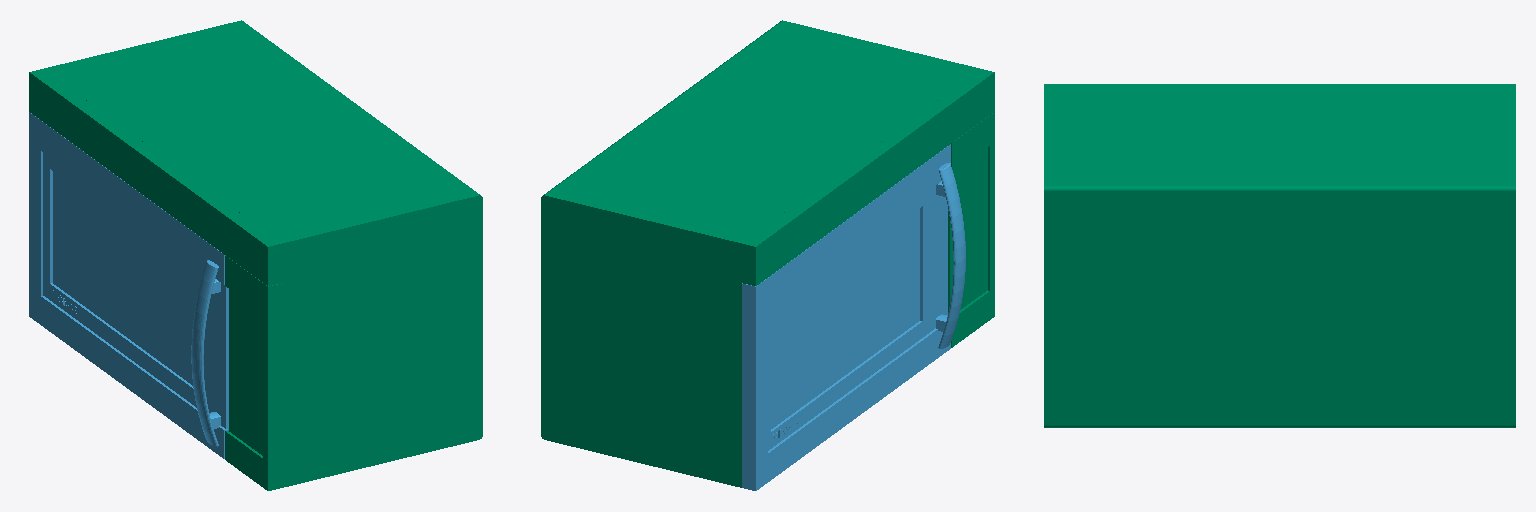
robot.urdf — partnet_c5d13a109a61060c178e7d331e641179:
<?xml version='1.0' encoding='utf-8'?>
<robot name="partnet_c5d13a109a61060c178e7d331e641179">
	<link name="base" />
	<link name="link_0">
		<visual name="door_frame_5">
			<origin xyz="0.7663123617888119 -0.4711569999999998 -0.39380938953471023" />
			<geometry>
				<mesh filename="textured_objs_isaac/original_1.obj" />
			</geometry>
		</visual>
		<visual name="glass_6">
			<origin xyz="0.7663123617888119 -0.4711569999999998 -0.39380938953471023" />
			<geometry>
				<mesh filename="textured_objs_isaac/original_6.obj" />
			</geometry>
		</visual>
		<visual name="glass_6">
			<origin xyz="0.7663123617888119 -0.4711569999999998 -0.39380938953471023" />
			<geometry>
				<mesh filename="textured_objs_isaac/original_9.obj" />
			</geometry>
		</visual>
		<visual name="glass_6">
			<origin xyz="0.7663123617888119 -0.4711569999999998 -0.39380938953471023" />
			<geometry>
				<mesh filename="textured_objs_isaac/original_17.obj" />
			</geometry>
		</visual>
		<visual name="glass_6">
			<origin xyz="0.7663123617888119 -0.4711569999999998 -0.39380938953471023" />
			<geometry>
				<mesh filename="textured_objs_isaac/original_10.obj" />
			</geometry>
		</visual>
		<visual name="glass_6">
			<origin xyz="0.7663123617888119 -0.4711569999999998 -0.39380938953471023" />
			<geometry>
				<mesh filename="textured_objs_isaac/original_11.obj" />
			</geometry>
		</visual>
		<visual name="glass_6">
			<origin xyz="0.7663123617888119 -0.4711569999999998 -0.39380938953471023" />
			<geometry>
				<mesh filename="textured_objs_isaac/original_12.obj" />
			</geometry>
		</visual>
		<visual name="glass_6">
			<origin xyz="0.7663123617888119 -0.4711569999999998 -0.39380938953471023" />
			<geometry>
				<mesh filename="textured_objs_isaac/original_13.obj" />
			</geometry>
		</visual>
		<visual name="glass_6">
			<origin xyz="0.7663123617888119 -0.4711569999999998 -0.39380938953471023" />
			<geometry>
				<mesh filename="textured_objs_isaac/original_14.obj" />
			</geometry>
		</visual>
		<visual name="glass_6">
			<origin xyz="0.7663123617888119 -0.4711569999999998 -0.39380938953471023" />
			<geometry>
				<mesh filename="textured_objs_isaac/original_15.obj" />
			</geometry>
		</visual>
		<visual name="glass_6">
			<origin xyz="0.7663123617888119 -0.4711569999999998 -0.39380938953471023" />
			<geometry>
				<mesh filename="textured_objs_isaac/original_16.obj" />
			</geometry>
		</visual>
		<visual name="glass_6">
			<origin xyz="0.7663123617888119 -0.4711569999999998 -0.39380938953471023" />
			<geometry>
				<mesh filename="textured_objs_isaac/original_3.obj" />
			</geometry>
		</visual>
		<visual name="handle_7">
			<origin xyz="0.7663123617888119 -0.4711569999999998 -0.39380938953471023" />
			<geometry>
				<mesh filename="textured_objs_isaac/original_19.obj" />
			</geometry>
		</visual>
		<visual name="handle_7">
			<origin xyz="0.7663123617888119 -0.4711569999999998 -0.39380938953471023" />
			<geometry>
				<mesh filename="textured_objs_isaac/original_21.obj" />
			</geometry>
		</visual>
		<visual name="handle_7">
			<origin xyz="0.7663123617888119 -0.4711569999999998 -0.39380938953471023" />
			<geometry>
				<mesh filename="textured_objs_isaac/original_20.obj" />
			</geometry>
		</visual>
		<collision>
			<origin xyz="0.7663123617888119 -0.4711569999999998 -0.39380938953471023" />
			<geometry>
				<mesh filename="textured_objs_isaac/original_1.obj" />
			</geometry>
		</collision>
		<collision>
			<origin xyz="0.7663123617888119 -0.4711569999999998 -0.39380938953471023" />
			<geometry>
				<mesh filename="textured_objs_isaac/original_6.obj" />
			</geometry>
		</collision>
		<collision>
			<origin xyz="0.7663123617888119 -0.4711569999999998 -0.39380938953471023" />
			<geometry>
				<mesh filename="textured_objs_isaac/original_9.obj" />
			</geometry>
		</collision>
		<collision>
			<origin xyz="0.7663123617888119 -0.4711569999999998 -0.39380938953471023" />
			<geometry>
				<mesh filename="textured_objs_isaac/original_17.obj" />
			</geometry>
		</collision>
		<collision>
			<origin xyz="0.7663123617888119 -0.4711569999999998 -0.39380938953471023" />
			<geometry>
				<mesh filename="textured_objs_isaac/original_10.obj" />
			</geometry>
		</collision>
		<collision>
			<origin xyz="0.7663123617888119 -0.4711569999999998 -0.39380938953471023" />
			<geometry>
				<mesh filename="textured_objs_isaac/original_11.obj" />
			</geometry>
		</collision>
		<collision>
			<origin xyz="0.7663123617888119 -0.4711569999999998 -0.39380938953471023" />
			<geometry>
				<mesh filename="textured_objs_isaac/original_12.obj" />
			</geometry>
		</collision>
		<collision>
			<origin xyz="0.7663123617888119 -0.4711569999999998 -0.39380938953471023" />
			<geometry>
				<mesh filename="textured_objs_isaac/original_13.obj" />
			</geometry>
		</collision>
		<collision>
			<origin xyz="0.7663123617888119 -0.4711569999999998 -0.39380938953471023" />
			<geometry>
				<mesh filename="textured_objs_isaac/original_14.obj" />
			</geometry>
		</collision>
		<collision>
			<origin xyz="0.7663123617888119 -0.4711569999999998 -0.39380938953471023" />
			<geometry>
				<mesh filename="textured_objs_isaac/original_15.obj" />
			</geometry>
		</collision>
		<collision>
			<origin xyz="0.7663123617888119 -0.4711569999999998 -0.39380938953471023" />
			<geometry>
				<mesh filename="textured_objs_isaac/original_16.obj" />
			</geometry>
		</collision>
		<collision>
			<origin xyz="0.7663123617888119 -0.4711569999999998 -0.39380938953471023" />
			<geometry>
				<mesh filename="textured_objs_isaac/original_3.obj" />
			</geometry>
		</collision>
		<collision>
			<origin xyz="0.7663123617888119 -0.4711569999999998 -0.39380938953471023" />
			<geometry>
				<mesh filename="textured_objs_isaac/original_19.obj" />
			</geometry>
		</collision>
		<collision>
			<origin xyz="0.7663123617888119 -0.4711569999999998 -0.39380938953471023" />
			<geometry>
				<mesh filename="textured_objs_isaac/original_21.obj" />
			</geometry>
		</collision>
		<collision>
			<origin xyz="0.7663123617888119 -0.4711569999999998 -0.39380938953471023" />
			<geometry>
				<mesh filename="textured_objs_isaac/original_20.obj" />
			</geometry>
		</collision>
	</link>
	<joint name="joint_0" type="revolute">
		<origin xyz="-0.7663123617888119 0.4711569999999998 0.39380938953471023" />
		<axis xyz="0 -1 0" />
		<child link="link_0" />
		<parent link="link_1" />
		<limit lower="-0.0" upper="1.5707963267948966" />
	</joint>
	<link name="link_1">
		<visual name="frame_2">
			<origin xyz="0 0 0" />
			<geometry>
				<mesh filename="textured_objs_isaac/original_2.obj" />
			</geometry>
		</visual>
		<visual name="frame_2">
			<origin xyz="0 0 0" />
			<geometry>
				<mesh filename="textured_objs_isaac/new_11.obj" />
			</geometry>
		</visual>
		<visual name="frame_2">
			<origin xyz="0 0 0" />
			<geometry>
				<mesh filename="textured_objs_isaac/original_7.obj" />
			</geometry>
		</visual>
		<visual name="frame_2">
			<origin xyz="0 0 0" />
			<geometry>
				<mesh filename="textured_objs_isaac/original_4.obj" />
			</geometry>
		</visual>
		<collision>
			<origin xyz="0 0 0" />
			<geometry>
				<mesh filename="textured_objs_isaac/original_2.obj" />
			</geometry>
		</collision>
		<collision>
			<origin xyz="0 0 0" />
			<geometry>
				<mesh filename="textured_objs_isaac/new_11.obj" />
			</geometry>
		</collision>
		<collision>
			<origin xyz="0 0 0" />
			<geometry>
				<mesh filename="textured_objs_isaac/original_7.obj" />
			</geometry>
		</collision>
		<collision>
			<origin xyz="0 0 0" />
			<geometry>
				<mesh filename="textured_objs_isaac/original_4.obj" />
			</geometry>
		</collision>
		</link>
	<joint name="joint_1" type="fixed">
		<origin rpy="1.570796326794897 0 -1.570796326794897" xyz="0 0 0" />
		<child link="link_1" />
		<parent link="base" />
	</joint>
</robot>

--- Render facts (derived) ---
3 views of the same robot in one strip: view 1: azimuth 30°, elevation 25°; view 2: azimuth 150°, elevation 25°; view 3: azimuth 270°, elevation 25° (orthographic).
Model partnet_c5d13a109a61060c178e7d331e641179 with 3 links and 2 joints (1 revolute, 1 fixed), rooted at base, posed all joints at 0.
Links seen in each view (by area): view 1: link_1, link_0; view 2: link_1, link_0; view 3: link_1.
Boxes of the visible links, box(x1,y1,x2,y2) form: link_1: box(29, 20, 482, 490); link_0: box(29, 112, 228, 458); link_1: box(541, 20, 994, 487); link_0: box(742, 144, 965, 490); link_1: box(1044, 84, 1515, 427).
Size in the robot's own frame: 0.9139 by 1.6 by 0.9055 metres.
Meshes: 19 distinct files referenced, 19 mesh visuals loaded (19 OBJ).
